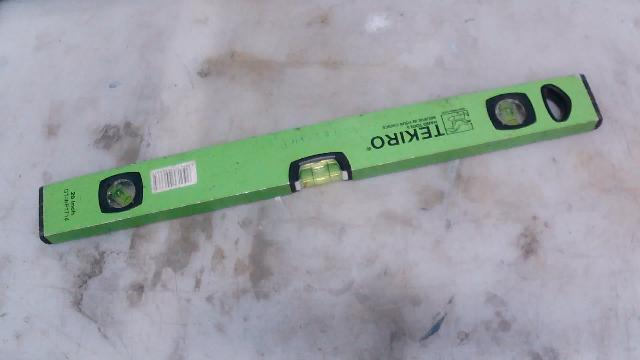water_pass: (24, 79, 640, 255)
